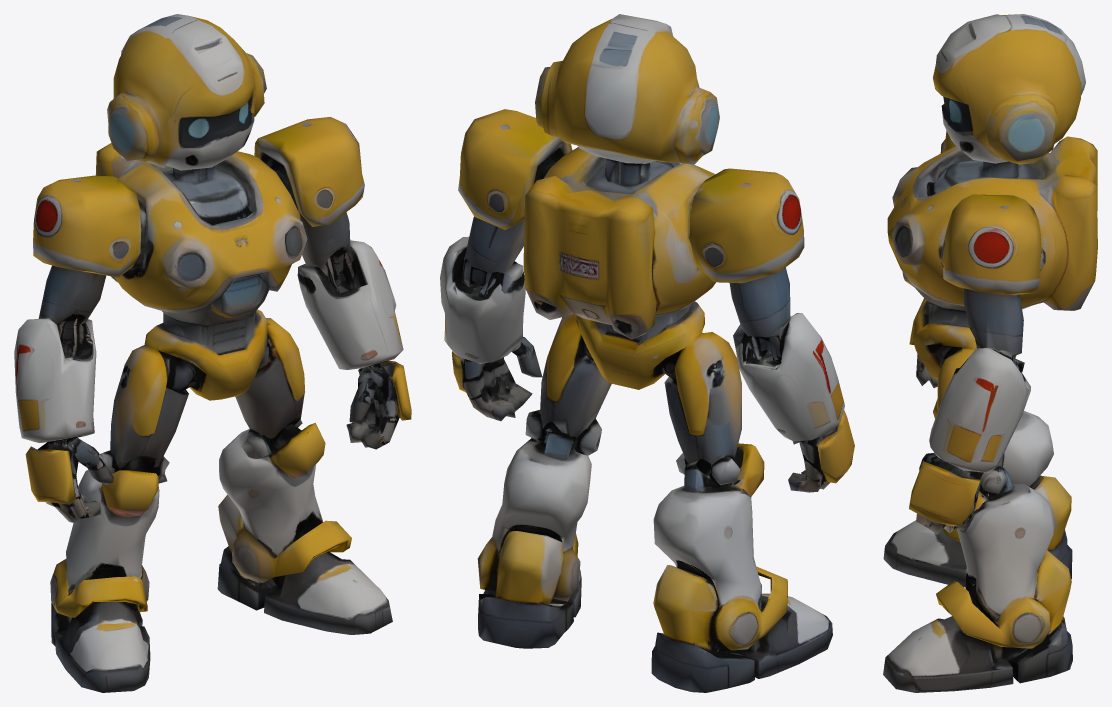
Rendered from sage_supporter.fbx.
3 renders of one model, left to right at view 1: azimuth 30°, elevation 25°; view 2: azimuth 150°, elevation 25°; view 3: azimuth 270°, elevation 25°, orthographic. The views are drawn at different scales.
Parts seen in each view (by area): view 1: tripo_node_8da32b4d; view 2: tripo_node_8da32b4d; view 3: tripo_node_8da32b4d.
Boxes of the visible parts, x1,y1,x2,y2 form: tripo_node_8da32b4d: (14, 14, 411, 692); tripo_node_8da32b4d: (440, 14, 854, 692); tripo_node_8da32b4d: (883, 14, 1097, 692).
Bounding box in the file's own units: 65.7 × 32.63 × 100.
1 material, 1 textured.
